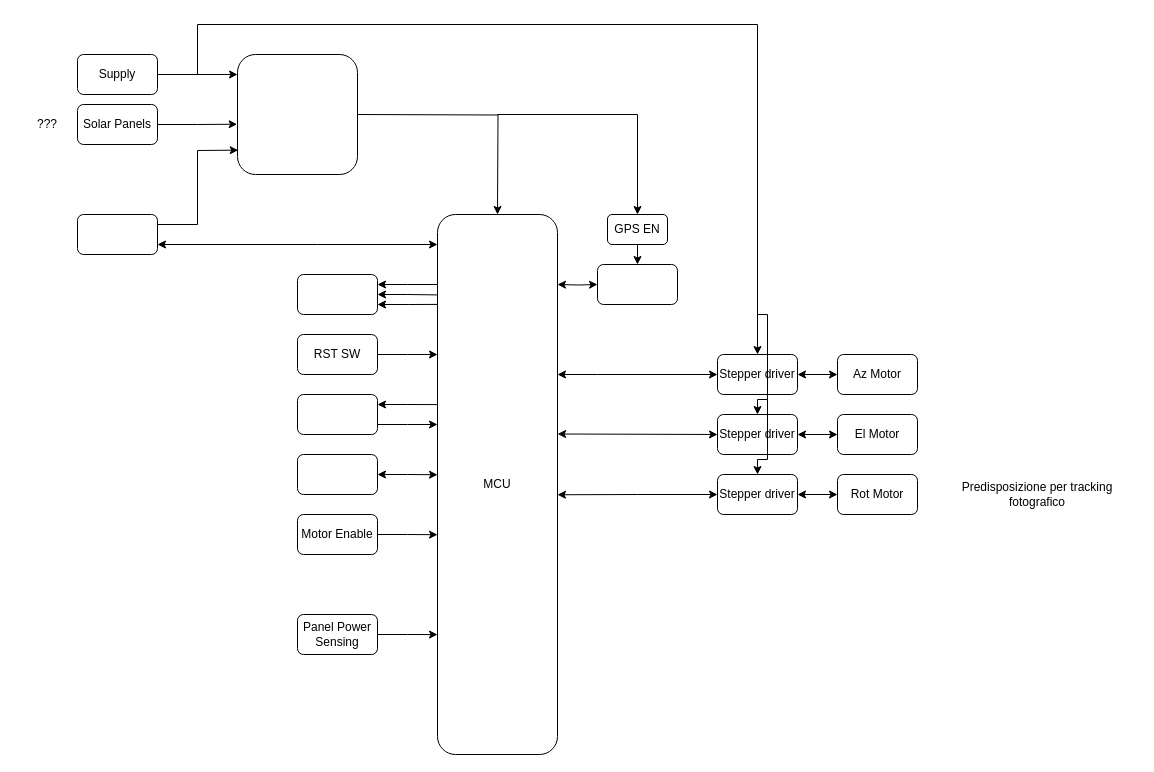
Some shapes in this 1154 by 772 pixel diagram are drawn without their labels. Each missing label, with the centre of its shape:
"Crysto" belongs at [337,414].
"Flash" belongs at [337,474].
"GPS" belongs at [637,284].
"Power MGMT" belongs at [297,114].
"RGB LED" belongs at [337,294].
"USB" belongs at [117,234].
